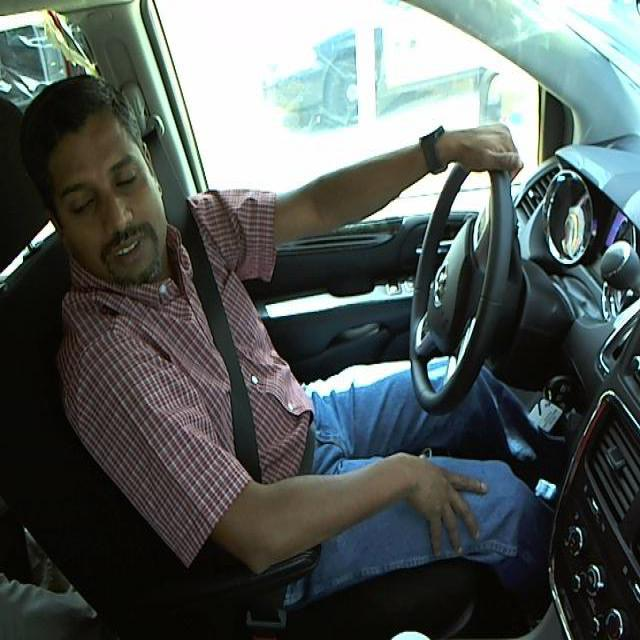seatbelt: (185, 223, 318, 485)
